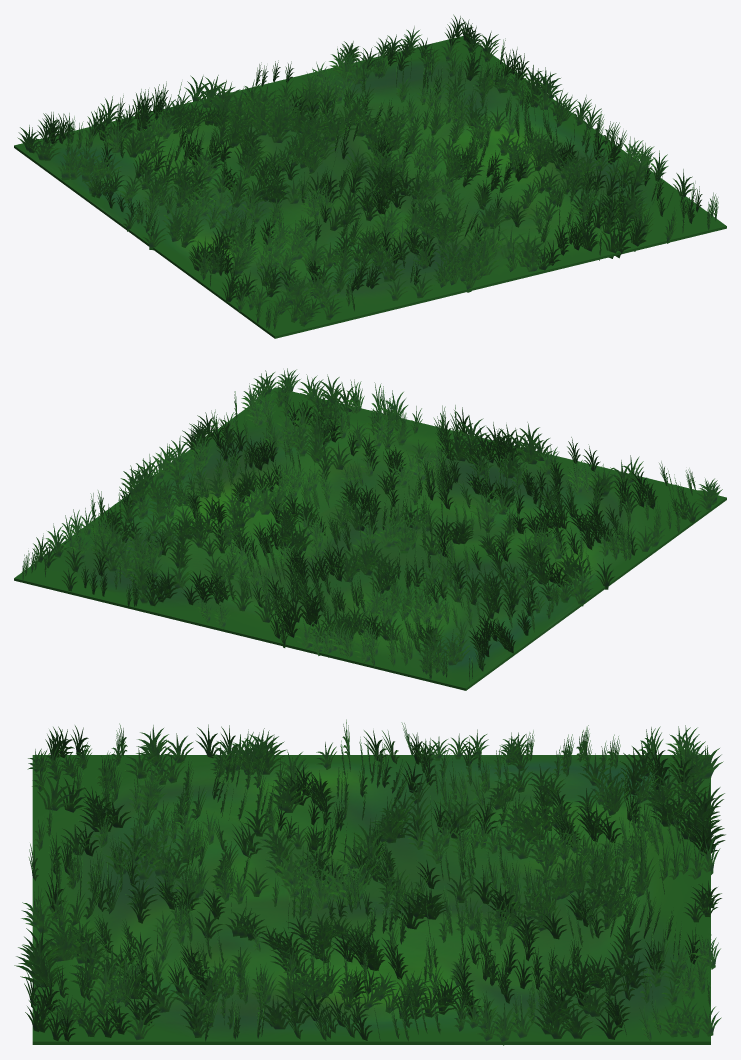
Rendered from SM_ARCH_GrassTile_v01.fbx.
The picture shows the model from 3 angles, top to bottom: view 1: azimuth 30°, elevation 25°; view 2: azimuth 150°, elevation 25°; view 3: azimuth 270°, elevation 25°; orthographic projection. The views are drawn at different scales.
Visible parts, largest first — view 1: grassTile; view 2: grassTile; view 3: grassTile.
Part boxes in pixels (bbox=[...]): grassTile: bbox=[14, 14, 726, 338]; grassTile: bbox=[14, 368, 726, 690]; grassTile: bbox=[14, 719, 725, 1045].
Bounding box in the file's own units: 716 × 54.29 × 719.
1 material, 1 textured.
